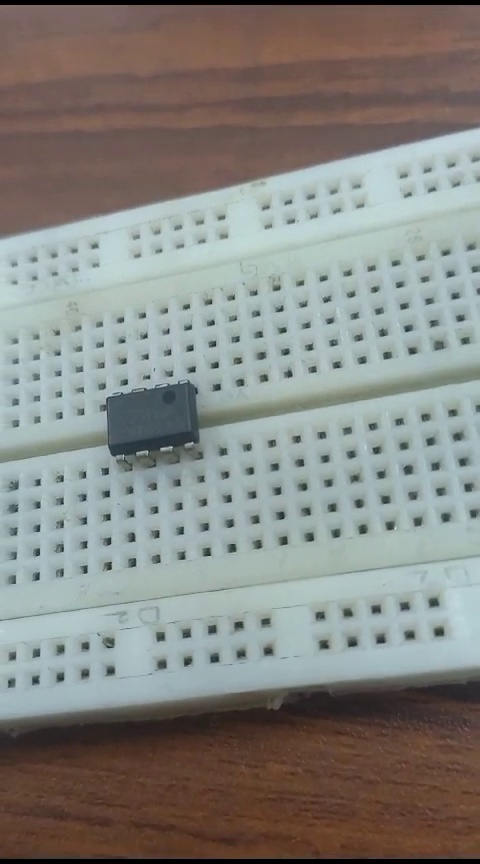IC: (94, 360, 215, 467)
